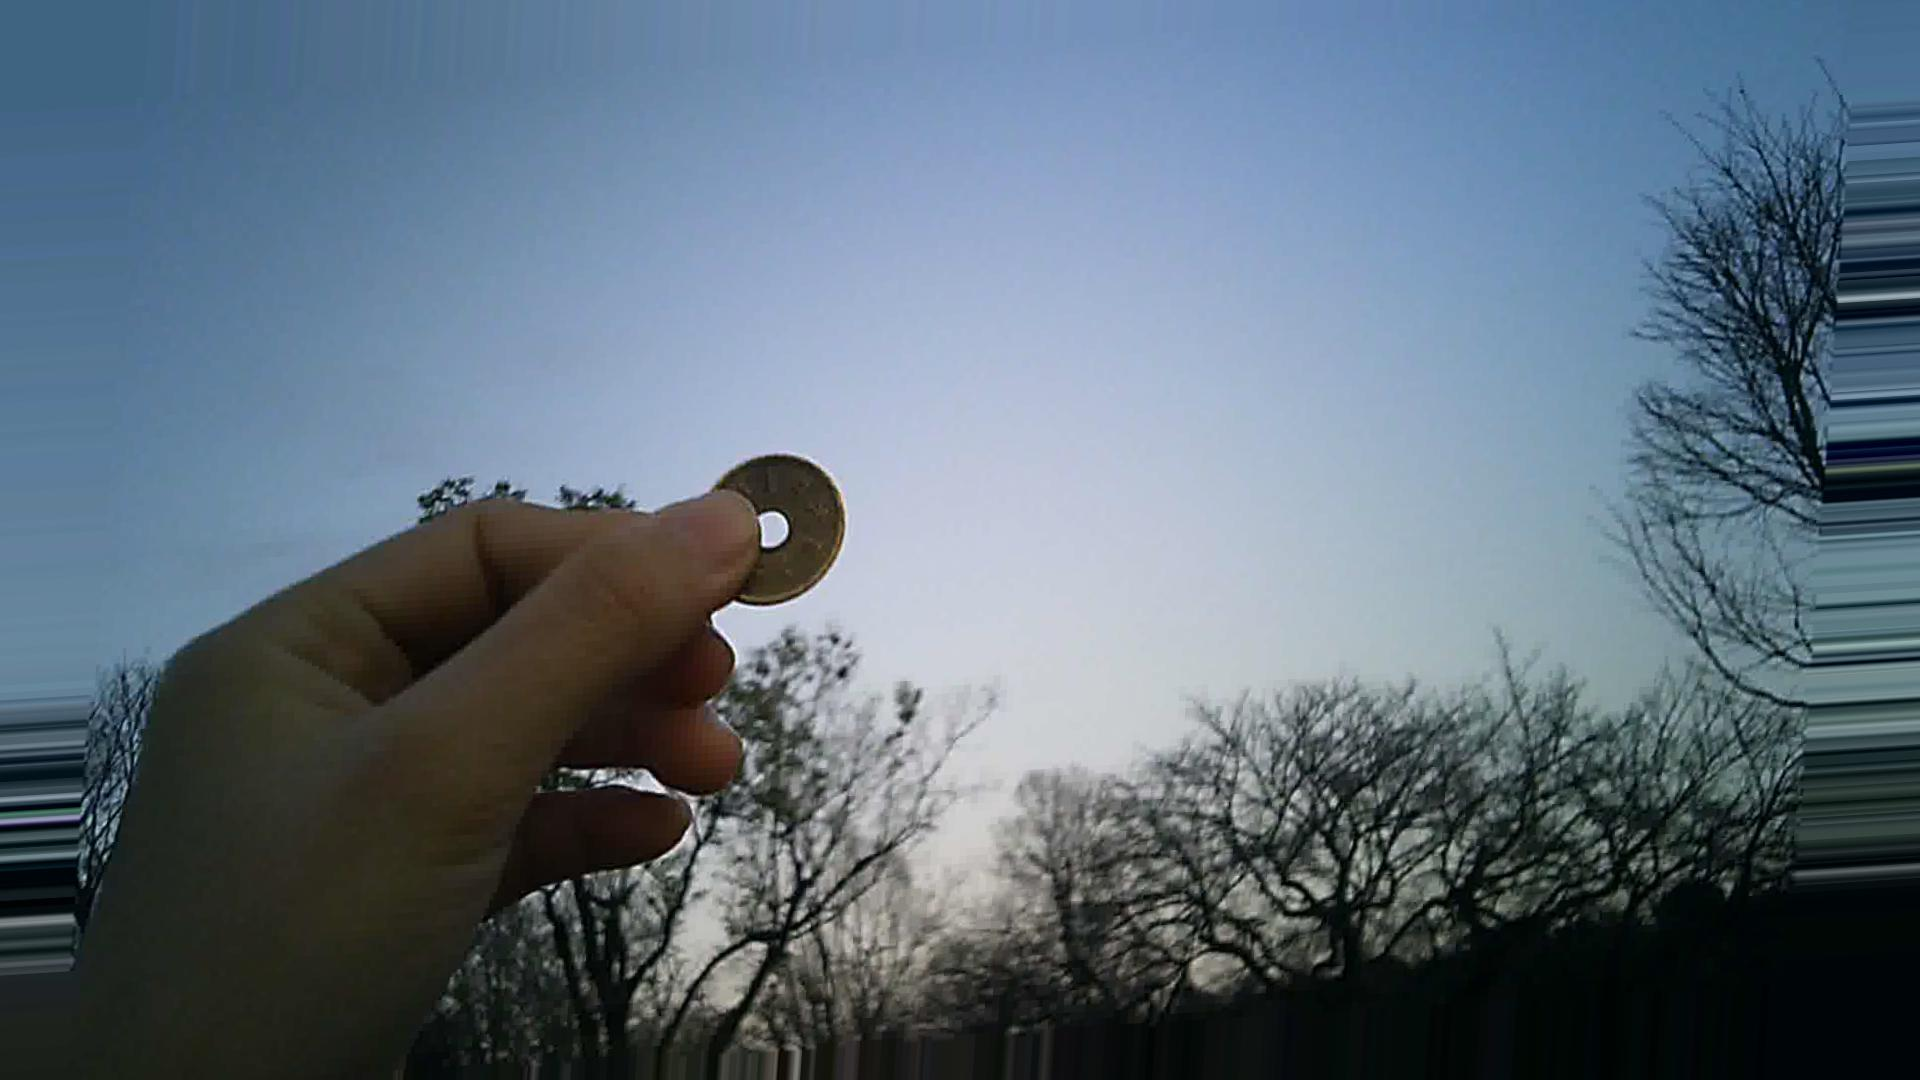5 Yen: (698, 455, 858, 612)
